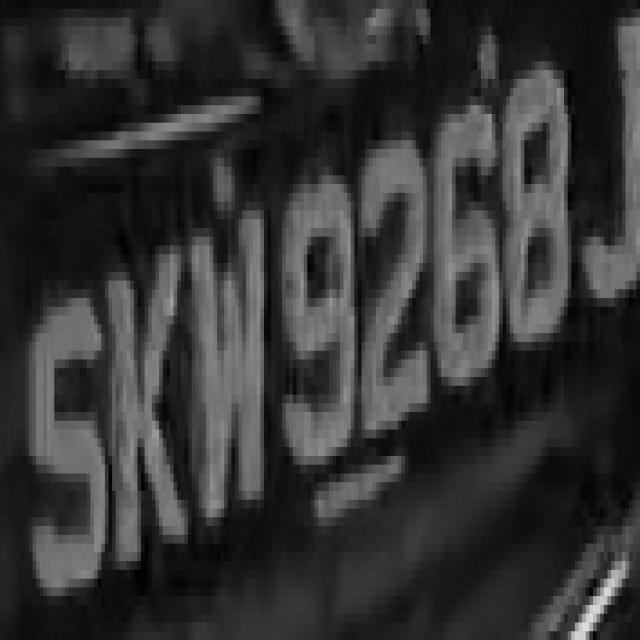2: (343, 132, 434, 464)
6: (420, 70, 502, 421)
8: (506, 44, 579, 368)
9: (278, 158, 358, 491)
J: (582, 0, 636, 342)
K: (90, 228, 192, 561)
S: (22, 254, 108, 605)
W: (181, 175, 271, 526)
